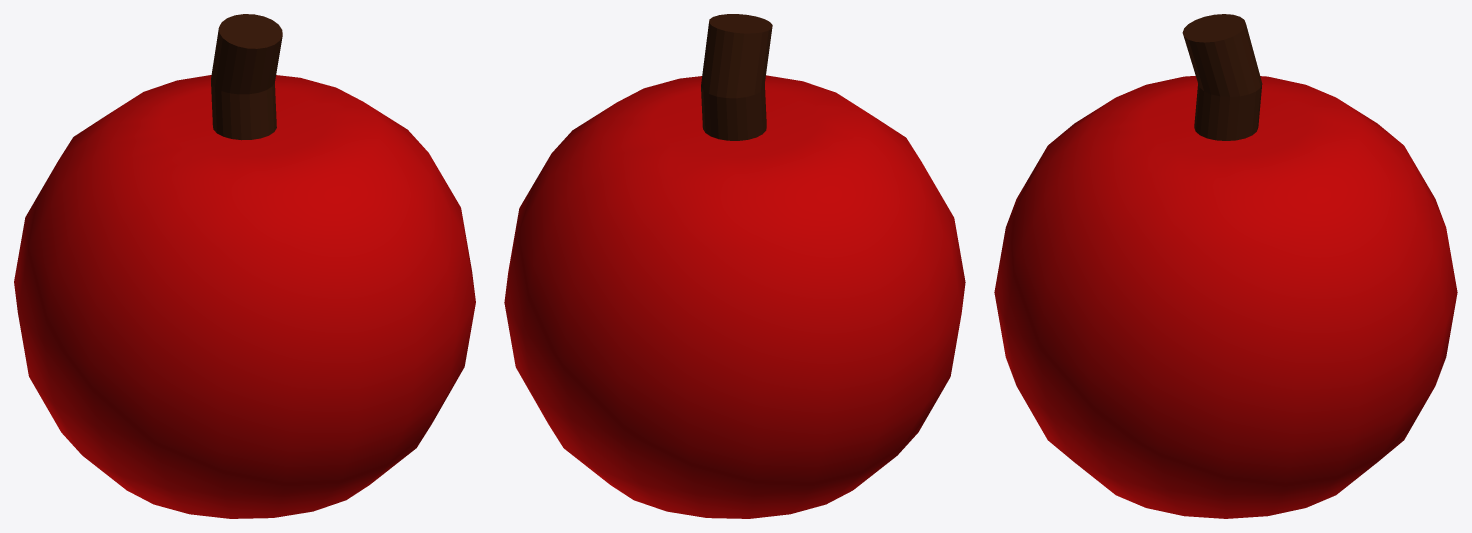
The model's file is Apple.fbx.
3 views of the same model, side by side, from view 1: azimuth 30°, elevation 25°; view 2: azimuth 150°, elevation 25°; view 3: azimuth 270°, elevation 25° (orthographic).
Parts seen in each view (by area): view 1: Sphere002, Object002; view 2: Sphere002, Object002; view 3: Sphere002, Object002.
Part boxes in pixels (x1,y1,x2,y2): Sphere002: [14, 75, 475, 518]; Object002: [211, 14, 282, 140]; Sphere002: [504, 75, 965, 518]; Object002: [701, 14, 772, 140]; Sphere002: [994, 76, 1457, 518]; Object002: [1182, 14, 1262, 140].
Bounding box in the file's own units: 100 × 110 × 100.
